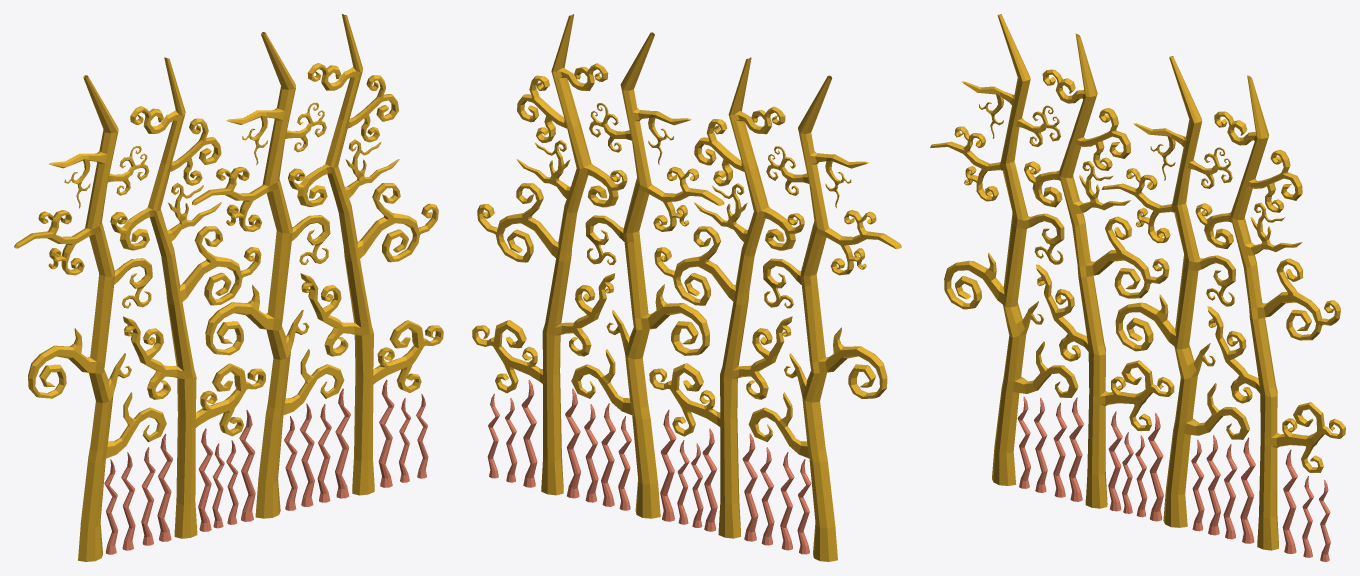
Rendered from Portal_Right_Posts.fbx.
3 renders of one model, left to right at view 1: azimuth 30°, elevation 25°; view 2: azimuth 150°, elevation 25°; view 3: azimuth 330°, elevation 25°, orthographic. The views are drawn at different scales.
Visible parts, largest first — view 1: Portal_Right_Posts; view 2: Portal_Right_Posts; view 3: Portal_Right_Posts.
Part boxes in pixels (left/top/right/bottom): Portal_Right_Posts: left=14, top=14, right=443, bottom=561; Portal_Right_Posts: left=472, top=14, right=901, bottom=561; Portal_Right_Posts: left=930, top=14, right=1345, bottom=561.
Bounding box in the file's own units: 471 × 507 × 19.47.
